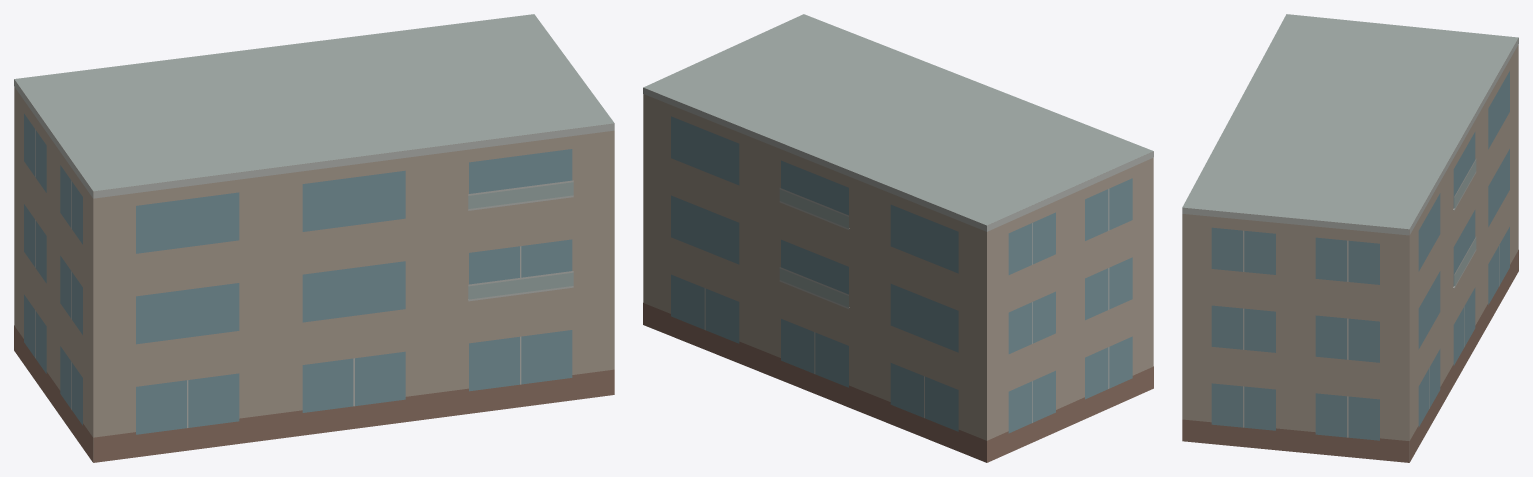
File: survey-upis-33013986.glb
3 views of the same model, side by side, from view 1: azimuth 30°, elevation 25°; view 2: azimuth 150°, elevation 25°; view 3: azimuth 270°, elevation 25° (orthographic). The views are drawn at different scales.
Parts seen in each view (by area): view 1: survey-upis-33013986.tmp; view 2: survey-upis-33013986.tmp; view 3: survey-upis-33013986.tmp.
Part boxes in pixels (x1=…): survey-upis-33013986.tmp: x1=14, y1=14, x2=614, y2=462; survey-upis-33013986.tmp: x1=643, y1=14, x2=1153, y2=462; survey-upis-33013986.tmp: x1=1182, y1=14, x2=1518, y2=462.
Bounding box in the file's own units: 18.09 × 9.15 × 11.96.
